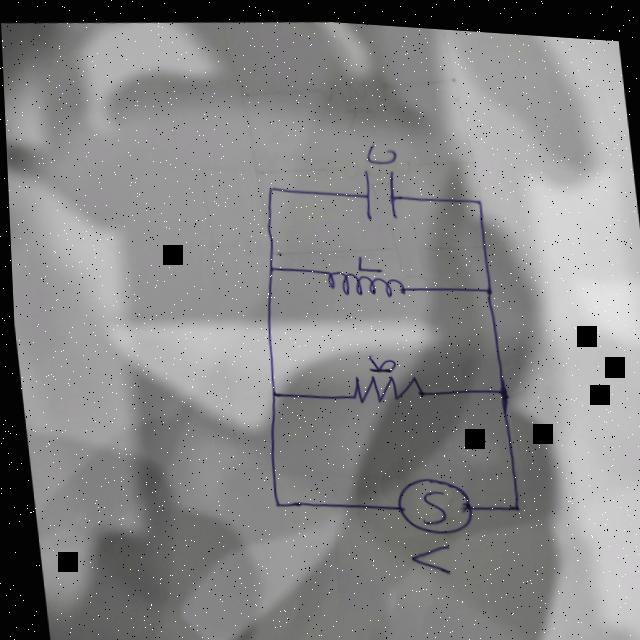capacitor: (358, 160, 401, 218)
inductor: (323, 259, 407, 298)
junction: (489, 374, 512, 395), (266, 493, 284, 507), (479, 277, 494, 290), (470, 189, 486, 201), (264, 383, 279, 395), (505, 494, 520, 505), (264, 259, 276, 271), (265, 179, 278, 190)
resistor: (345, 364, 425, 404)
source: (389, 466, 473, 534)
text: (404, 535, 449, 572), (362, 135, 399, 161), (363, 346, 395, 369), (355, 248, 384, 269)
